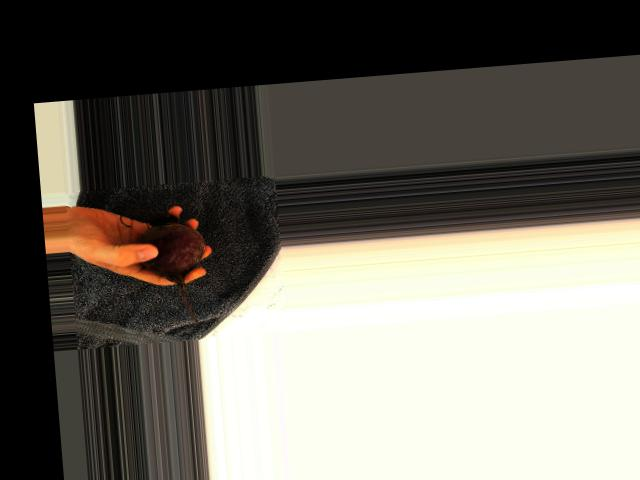beet: (134, 213, 212, 329)
